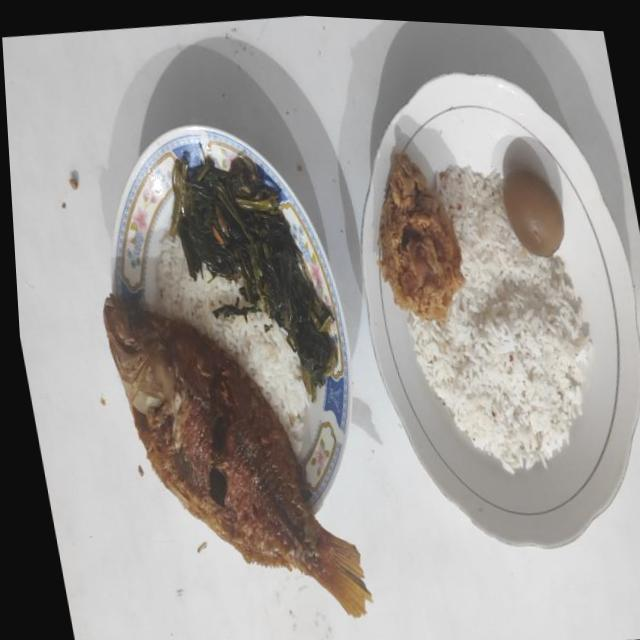ikan_mujair: (104, 295, 370, 616)
nasi_putih: (409, 166, 591, 472), (157, 237, 310, 454)
tumis_kangkung: (170, 157, 337, 400)
